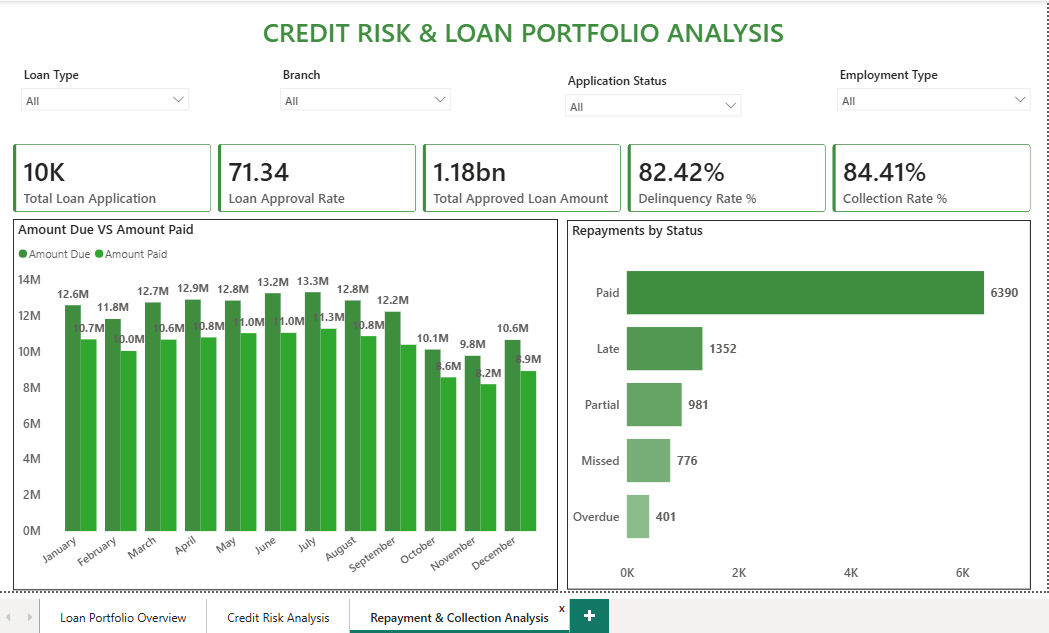

What the dashboard file says about the page in this screenshot:
{"tool":"powerbi","page":{"name":"Repayment & Collection Analysis","canvas":[1280,720],"ordinal":2},"visuals":[{"type":"textbox","box":[0,9.3,1280,64],"z":0},{"type":"slicer","fields":{"Values":["Cleaned Loan Application.Loan_Type"]},"box":[17.1,74.4,224.5,83],"z":1000},{"type":"slicer","fields":{"Values":["Cleaned Loan Application.Branch"]},"box":[333.3,74.7,228,82.7],"z":2000},{"type":"slicer","fields":{"Values":["Cleaned Loan Application.Application_Status"]},"box":[681.3,81.3,234.7,76],"z":3000},{"type":"slicer","fields":{"Values":["Cleaned Loan Application.Employment_Type"]},"box":[1013.3,74.7,256,82.7],"z":4000},{"type":"cardVisual","fields":{"Data":["Cleaned Loan Application.Total Loan Application","Cleaned Loan Application.Loan Approval Rate","Cleaned Loan Application.Total Approved Loan Amount","Cleaned Loan Repayment.Delinquency Rate %","Cleaned Loan Repayment.Collection Rate %"]},"box":[0,157.4,1280.1,117.2],"z":5000},{"type":"clusteredColumnChart","title":"Amount Due VS Amount Paid","fields":{"Category":["Cleaned Loan Application.Application_Date.Variation.Date Hierarchy.Month"],"Y":["Sum(Cleaned Loan Repayment.Amount_Due_INR)","Sum(Cleaned Loan Repayment.Amount_Paid_INR)"]},"box":[17.4,266.4,664.6,453.2],"z":5001},{"type":"barChart","title":"Repayments by Status","fields":{"Category":["Cleaned Loan Repayment.Payment_Status"],"Y":["CountNonNull(Cleaned Loan Repayment.Repayment_ID)"]},"box":[693.7,267,565.7,451.4],"z":5002}]}

Visuals, with their boxes on the page's 1280x720 design canvas (x1, y1, x2, y2). These are canvas units, not pixel positions in the 1049x633 screenshot, which may show the page scaled, cropped or inside an application window:
textbox: (left=0, top=9, right=1280, bottom=73)
slicer - Cleaned Loan Application.Loan_Type: (left=17, top=74, right=242, bottom=157)
slicer - Cleaned Loan Application.Branch: (left=333, top=75, right=561, bottom=157)
slicer - Cleaned Loan Application.Application_Status: (left=681, top=81, right=916, bottom=157)
slicer - Cleaned Loan Application.Employment_Type: (left=1013, top=75, right=1269, bottom=157)
cardVisual - Cleaned Loan Application.Total Loan Application x Cleaned Loan Application.Loan Approval Rate: (left=0, top=157, right=1280, bottom=275)
"Amount Due VS Amount Paid" clusteredColumnChart: (left=17, top=266, right=682, bottom=720)
"Repayments by Status" barChart: (left=694, top=267, right=1259, bottom=718)
